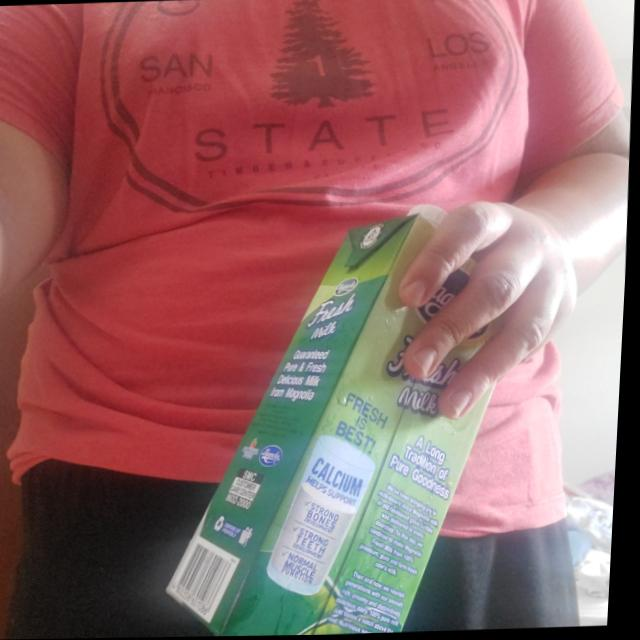milk: (161, 202, 522, 638)
